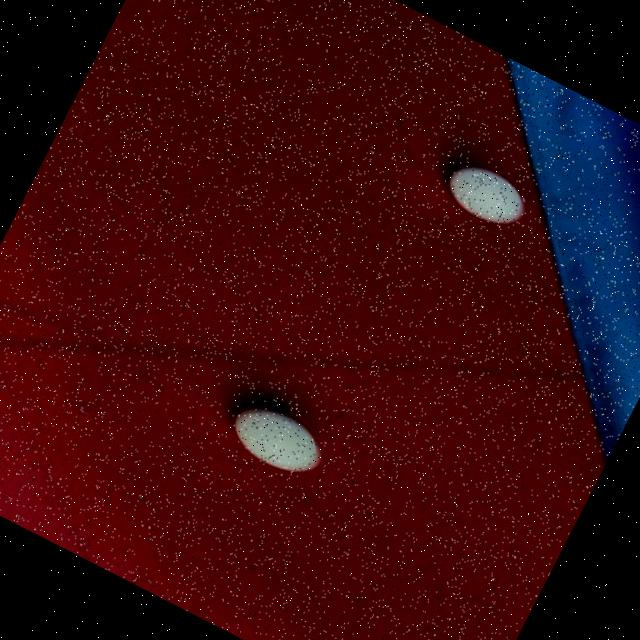ping-pong-ball: (201, 376, 356, 506), (419, 138, 547, 248)
